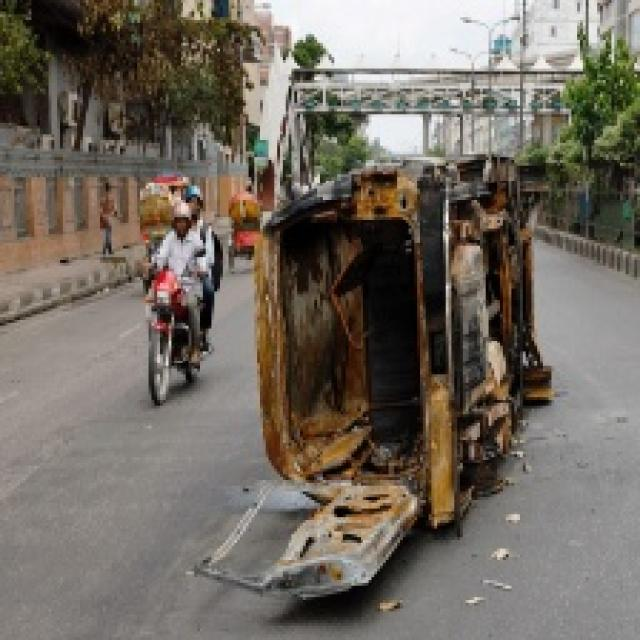bike: (140, 261, 217, 415)
rickshaw: (226, 182, 263, 277)
